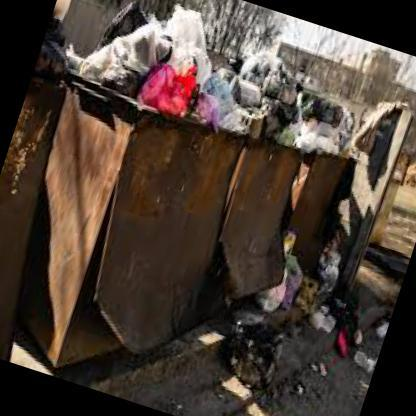Garbage: (75, 0, 277, 137), (226, 41, 327, 152), (76, 0, 176, 106), (296, 67, 384, 165), (152, 2, 228, 87), (181, 58, 258, 133), (258, 230, 315, 326), (292, 94, 362, 162), (320, 318, 383, 390), (148, 52, 206, 119), (255, 56, 306, 121), (286, 280, 340, 338), (312, 238, 352, 296), (238, 44, 280, 96), (250, 117, 304, 150)
